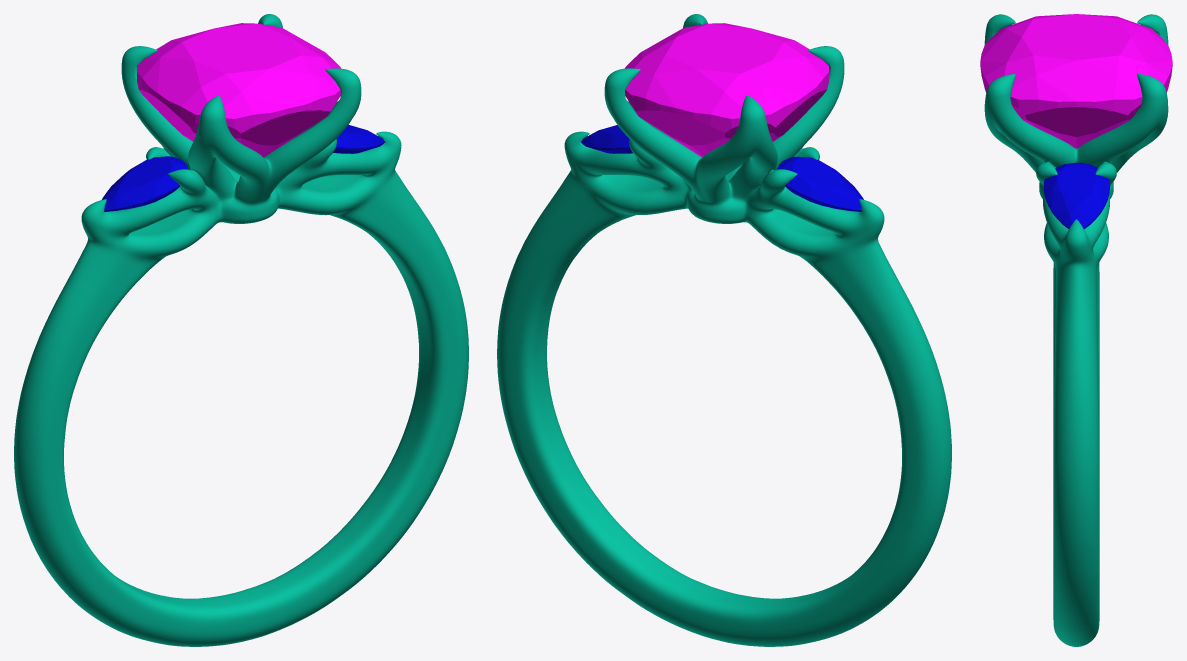
The model's file is BE1D898_CU_200ct_RENDER.glb.
3 renders of one model, left to right at view 1: azimuth 30°, elevation 25°; view 2: azimuth 150°, elevation 25°; view 3: azimuth 270°, elevation 25°, orthographic.
Parts seen in each view (by area): view 1: Metal 01, CS_Diamond_Cushion, Diamond_Pear_side, Diamond_Pear_side.001; view 2: Metal 01, CS_Diamond_Cushion, Diamond_Pear_side, Diamond_Pear_side.001; view 3: Metal 01, CS_Diamond_Cushion, Diamond_Pear_side.001.
Boxes of the visible parts, box(x1,y1,x2,y2) form: Metal 01: box(14, 14, 468, 646); CS_Diamond_Cushion: box(137, 23, 340, 157); Diamond_Pear_side: box(102, 156, 188, 211); Diamond_Pear_side.001: box(333, 125, 384, 153); Metal 01: box(497, 14, 951, 646); CS_Diamond_Cushion: box(625, 23, 828, 157); Diamond_Pear_side: box(777, 156, 863, 211); Diamond_Pear_side.001: box(581, 125, 632, 153); Metal 01: box(984, 14, 1168, 646); CS_Diamond_Cushion: box(980, 14, 1172, 148); Diamond_Pear_side.001: box(1043, 162, 1110, 229).
Size of the model in its own units: 20.07 by 25.24 by 7.5.
